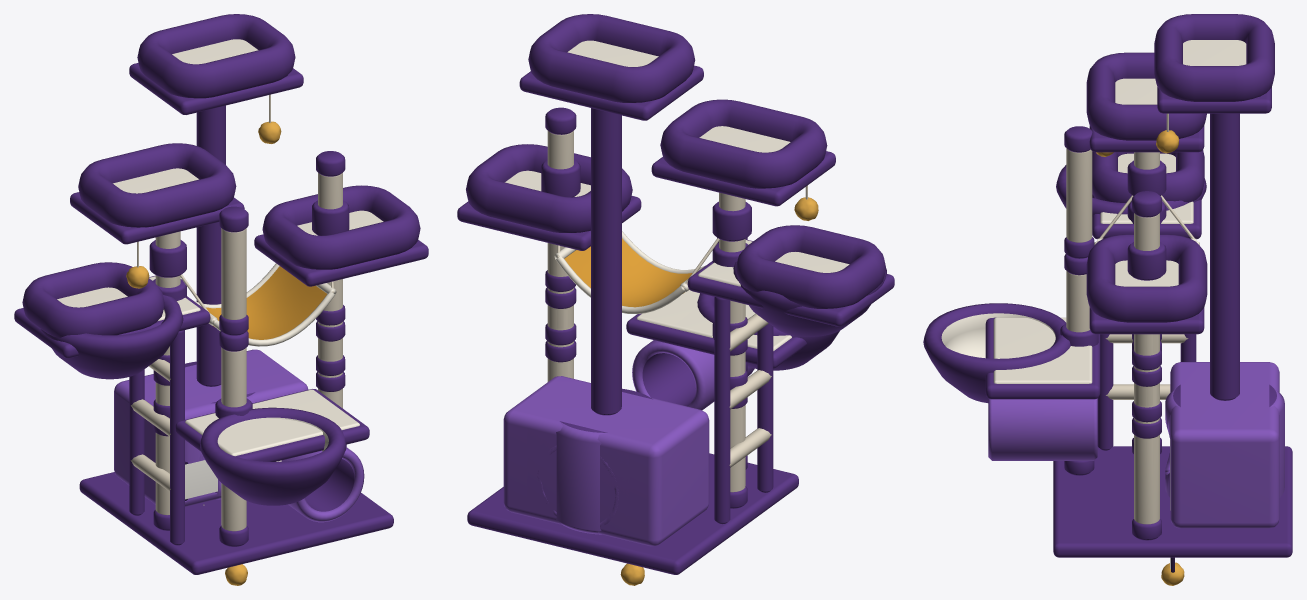
The model's file is tower.glb.
3 renders of one model, left to right at view 1: azimuth 30°, elevation 25°; view 2: azimuth 150°, elevation 25°; view 3: azimuth 270°, elevation 25°, orthographic. The views are drawn at different scales.
Parts seen in each view (by area): view 1: Crown, Board, Posts, SideBed, FrontBowl, Hammock, SideLadder, HouseWide, FrontTunnel, SideBasket, FrontStep, SignBoard (+1 smaller); view 2: Crown, HouseWide, SideBed, SideLadder, Board, Hammock, FrontTunnel, HouseBox, Posts, HouseBarrel, SideBasket, FrontStep (+1 smaller); view 3: Crown, HouseWide, Board, FrontTunnel, Posts, FrontBowl, SideLadder, SideBed, FrontStep, Hammock, HouseBarrel, SideBasket.
Boxes of the visible parts, x1,y1,x2,y2 form: Crown: (70, 14, 428, 530); Board: (79, 472, 393, 574); Posts: (153, 151, 345, 546); SideBed: (14, 262, 185, 358); FrontBowl: (200, 398, 346, 505); Hammock: (149, 200, 349, 346); SideLadder: (119, 275, 210, 545); HouseWide: (114, 349, 308, 506); FrontTunnel: (198, 389, 369, 522); SideBasket: (40, 279, 186, 379); FrontStep: (175, 397, 325, 461); SignBoard: (185, 460, 217, 500); Crown: (457, 14, 835, 507); HouseWide: (503, 376, 709, 546); SideBed: (712, 225, 894, 326); SideLadder: (687, 239, 801, 524); Board: (467, 453, 798, 574); Hammock: (541, 160, 751, 314); FrontTunnel: (626, 290, 757, 410); HouseBox: (527, 380, 682, 541); Posts: (545, 107, 747, 508); HouseBarrel: (556, 388, 652, 534); SideBasket: (712, 243, 886, 336); FrontStep: (664, 304, 806, 368); Crown: (1086, 14, 1274, 540); HouseWide: (1170, 362, 1279, 528); Board: (1053, 446, 1292, 557); FrontTunnel: (985, 323, 1100, 460); Posts: (1064, 126, 1161, 540); FrontBowl: (923, 303, 1098, 402); SideLadder: (1092, 194, 1201, 450); SideBed: (1092, 150, 1204, 223); FrontStep: (985, 317, 1100, 372); Hammock: (1094, 160, 1199, 280); HouseBarrel: (1165, 384, 1284, 497); SideBasket: (1056, 165, 1206, 235).
Size of the model in its own units: 1.68 by 2.31 by 1.42.
